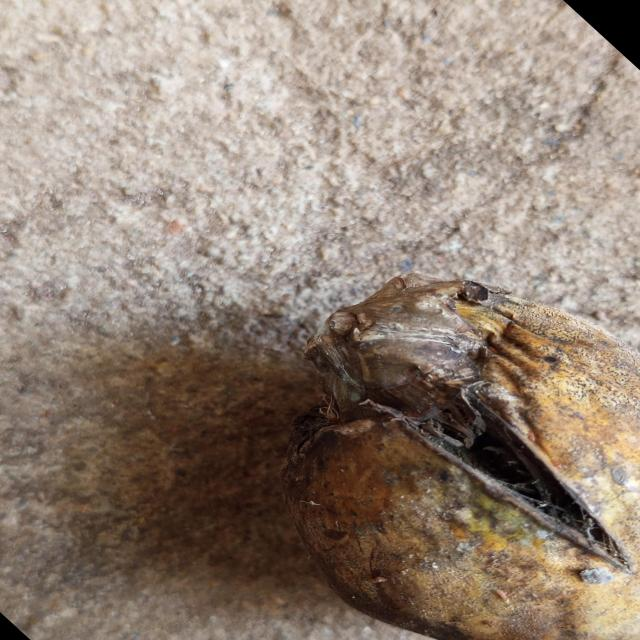damaged: (283, 274, 640, 640)
